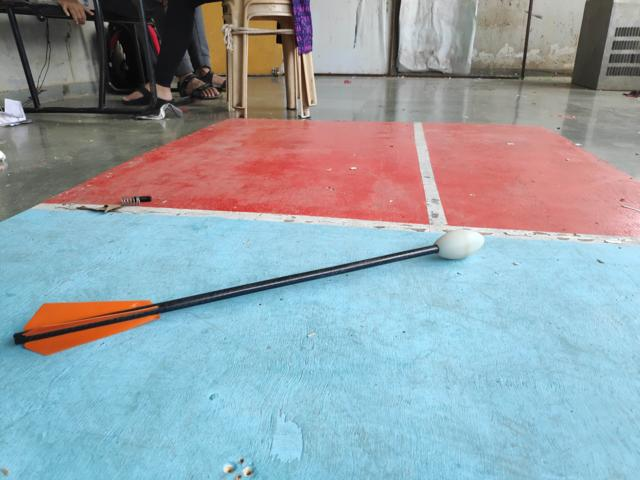Head: (434, 229, 487, 263)
Tail: (10, 296, 162, 358)
